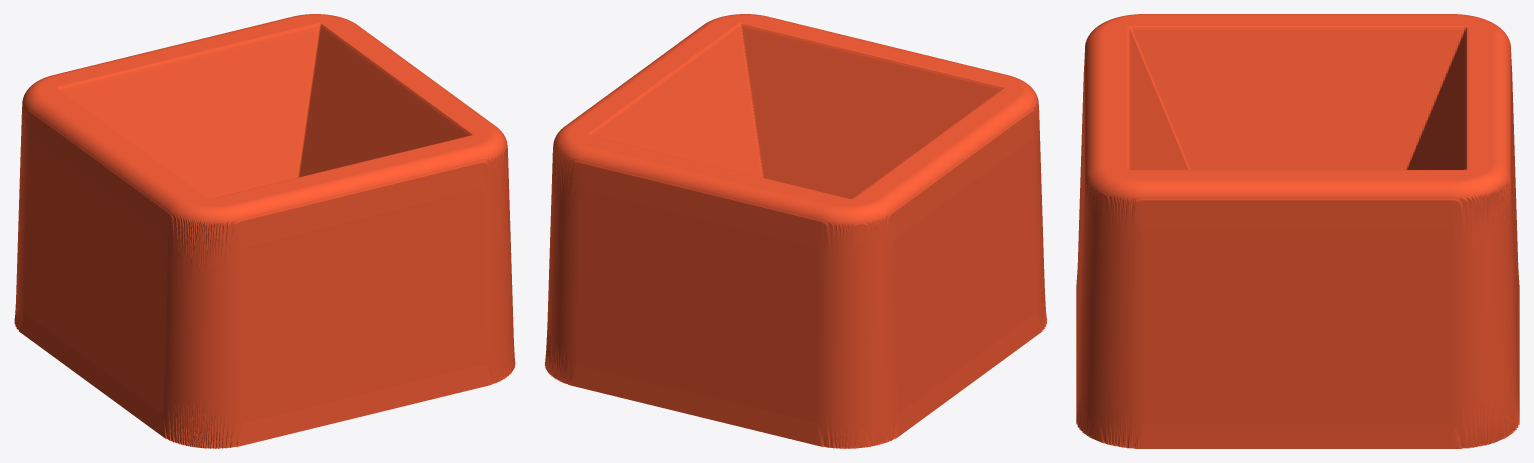
Rendered from mold.glb.
3 views of the same model, side by side, from view 1: azimuth 30°, elevation 25°; view 2: azimuth 150°, elevation 25°; view 3: azimuth 270°, elevation 25° (orthographic). The views are drawn at different scales.
Visible parts, largest first — view 1: geometry_0; view 2: geometry_0; view 3: geometry_0.
Boxes of the visible parts, left/top/right/bottom form: geometry_0: left=14, top=14, right=515, bottom=448; geometry_0: left=544, top=14, right=1047, bottom=448; geometry_0: left=1076, top=14, right=1519, bottom=448.
Bounding box in the file's own units: 0.059 × 0.0377 × 0.059.
